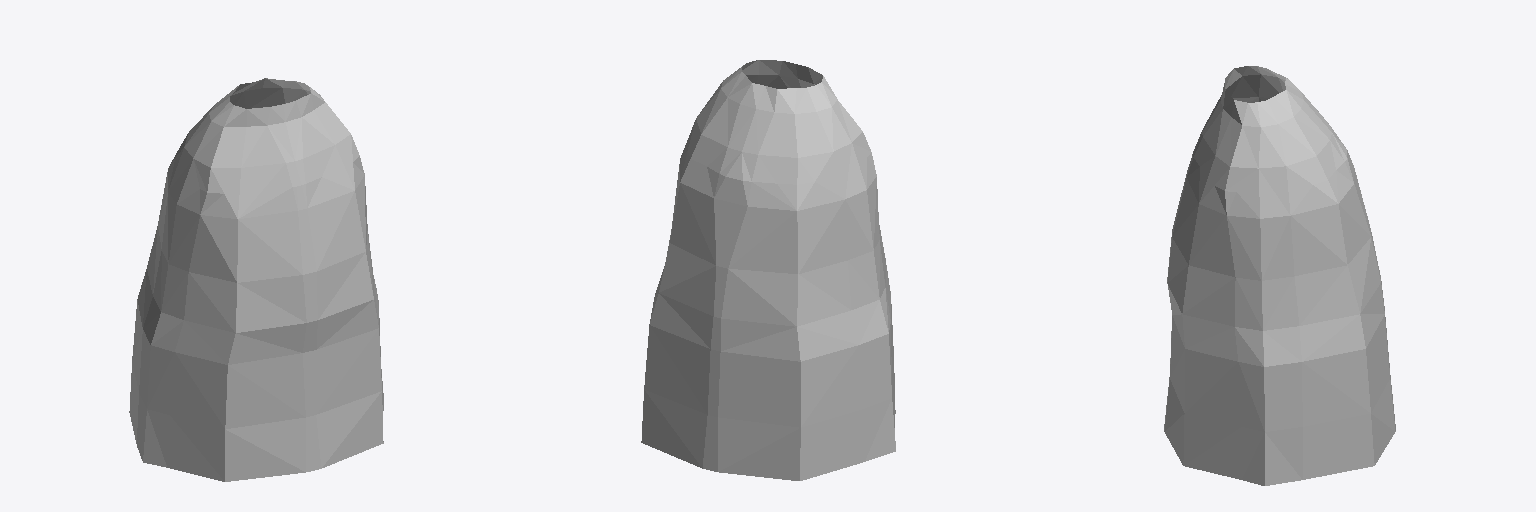
The model's file is avatar_skirt-skirt_poofy.obj.
The picture shows the model from 3 angles: view 1: azimuth 30°, elevation 25°; view 2: azimuth 150°, elevation 25°; view 3: azimuth 270°, elevation 25°; orthographic projection.
Visible parts, largest first — view 1: g1_avatar_skirt; view 2: g1_avatar_skirt; view 3: g1_avatar_skirt.
Boxes of the visible parts, box(x1,y1,x2,y2) form: g1_avatar_skirt: box(129, 78, 383, 481); g1_avatar_skirt: box(641, 60, 895, 480); g1_avatar_skirt: box(1164, 66, 1395, 485).
Bounding box in the file's own units: 0.8235 × 1.12 × 0.6829.